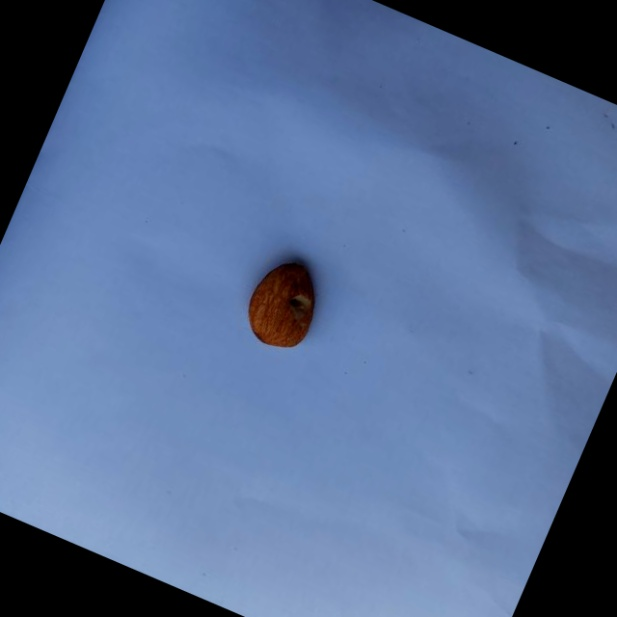grade3: (233, 247, 337, 363)
